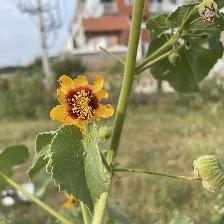indian mallow: (49, 74, 116, 131)
